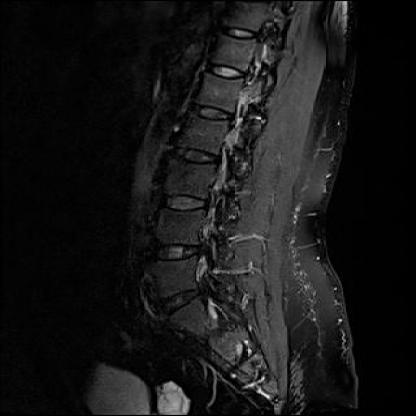Disc Bulgerotation: (147, 238, 209, 265), (155, 286, 212, 314)
